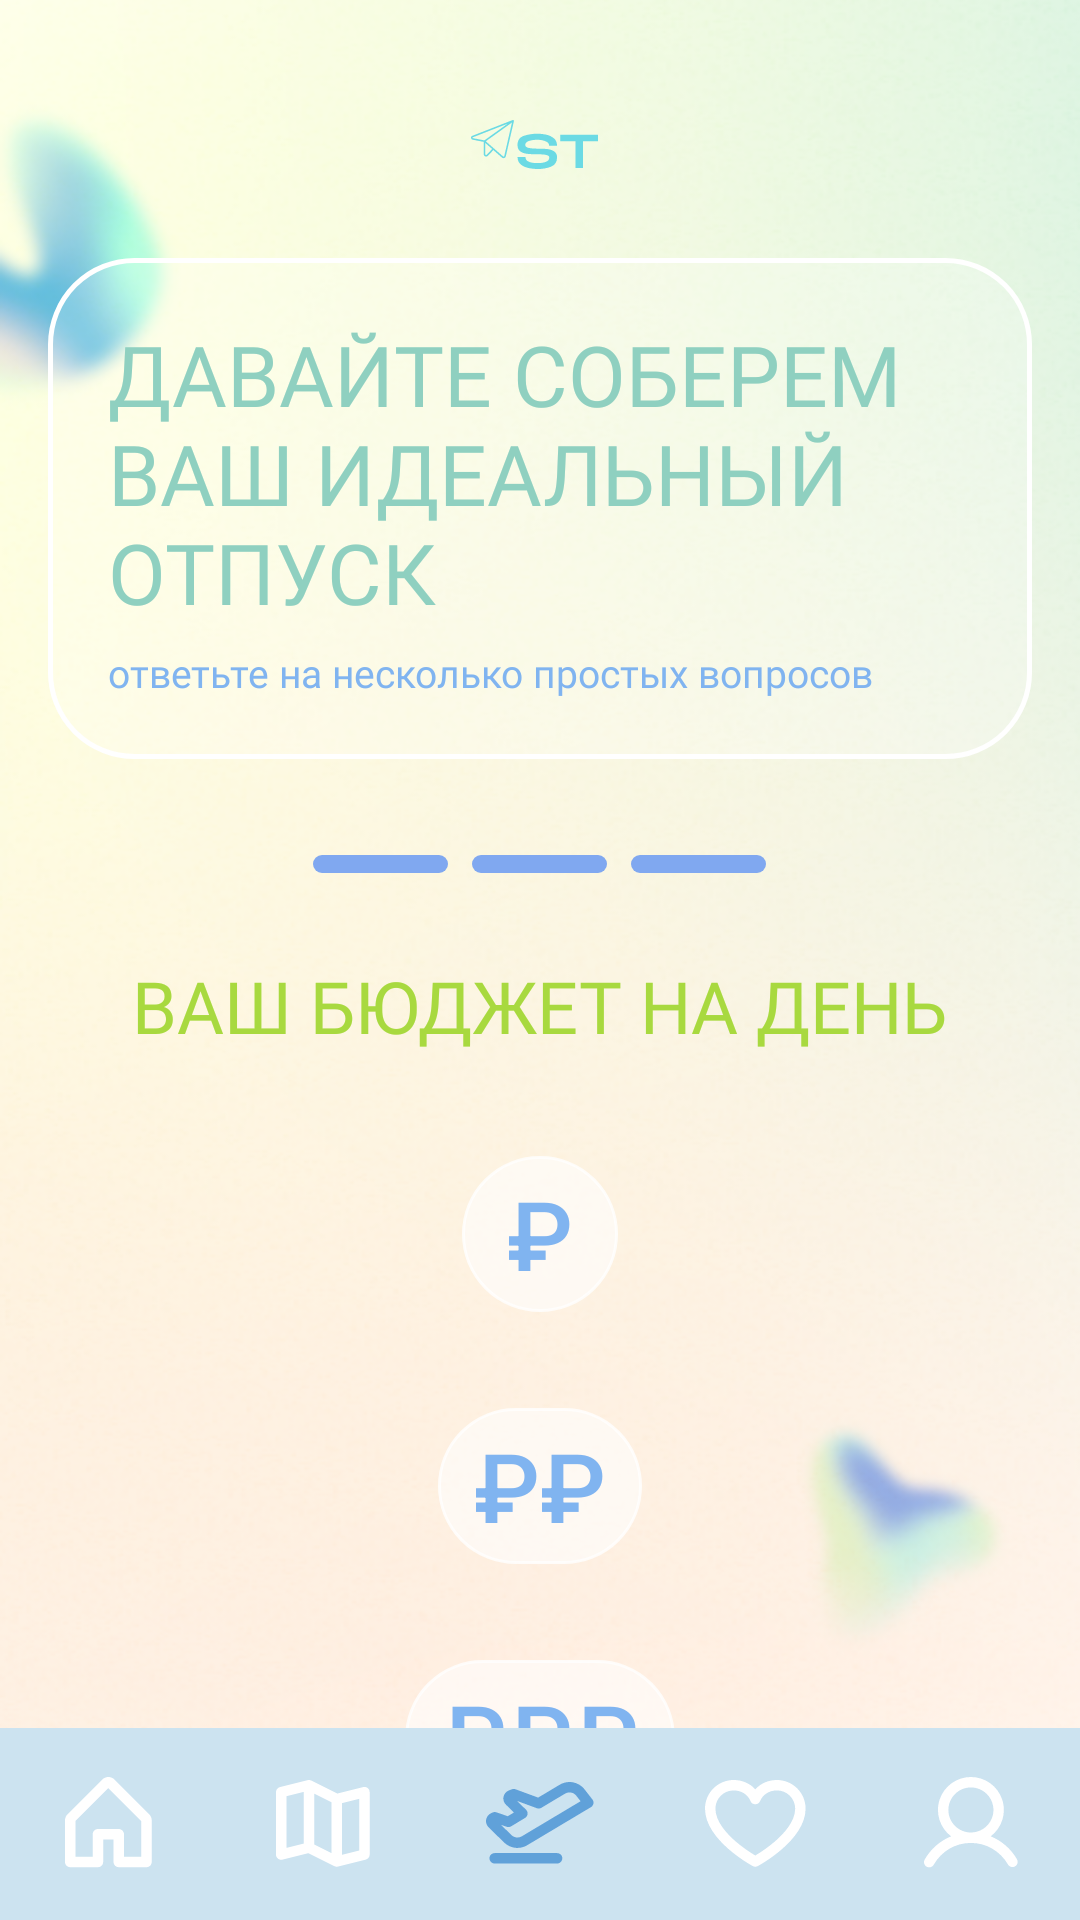

Locate icon controls on the screen. Image size 1080px×1920px, boxes as (x1, y1, x2, y2).
heart: (705, 1780, 806, 1867)
house: (65, 1777, 152, 1867)
map: (276, 1780, 370, 1867)
plane: (486, 1782, 594, 1864)
user: (924, 1777, 1018, 1867)
